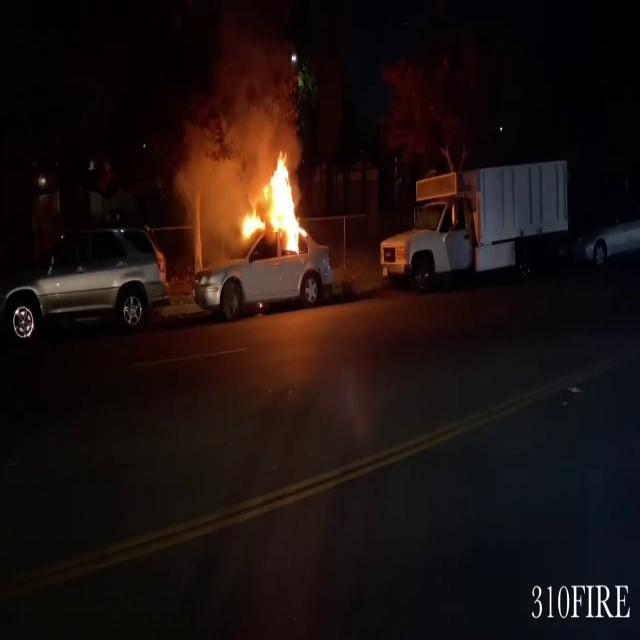Fire: (234, 147, 314, 256)
Smoke: (170, 8, 308, 190)
